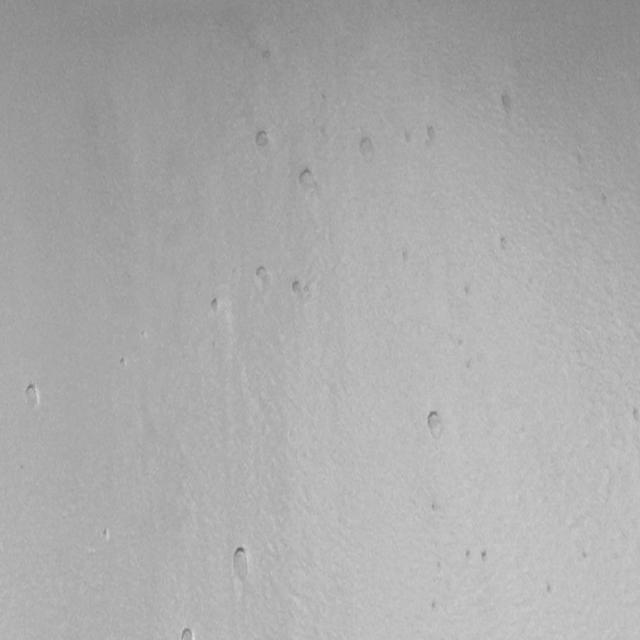pin holes: (228, 545, 253, 583), (422, 409, 446, 441), (21, 382, 44, 414), (496, 90, 518, 122), (357, 134, 380, 164), (250, 263, 273, 292), (250, 127, 274, 154), (295, 166, 317, 193), (421, 122, 441, 150), (287, 278, 308, 302), (258, 42, 277, 66), (396, 248, 416, 270), (399, 126, 419, 148), (494, 233, 514, 254), (458, 281, 478, 302), (208, 294, 227, 316), (178, 626, 200, 640), (597, 192, 612, 210), (479, 548, 490, 570), (117, 355, 130, 373), (464, 547, 476, 565), (545, 581, 558, 597), (580, 548, 593, 563), (100, 527, 112, 543), (430, 598, 442, 614), (630, 406, 639, 425)
